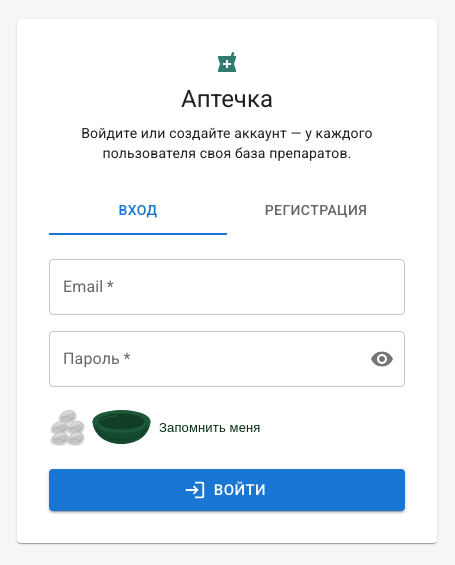
Test: AuthPage › switches to registration mode
The image size is (455, 565).
Click the tab "Регистрация". click: [316, 211]
box: [227,187,405,235]
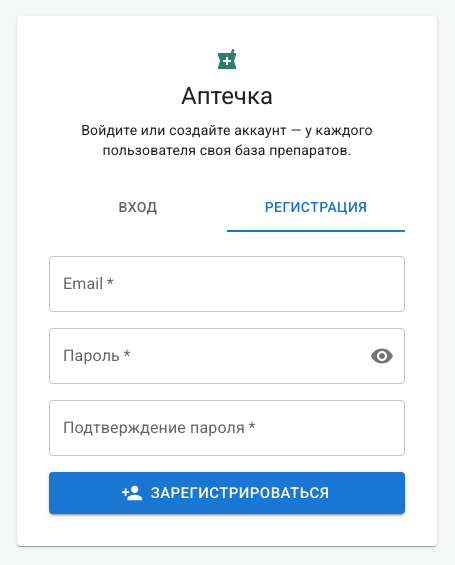
Result: the password field labelled "Подтверждение пароля *" is shown at [49,400,405,456]
Result: the button "Зарегистрироваться" is shown at [49,472,405,514]
